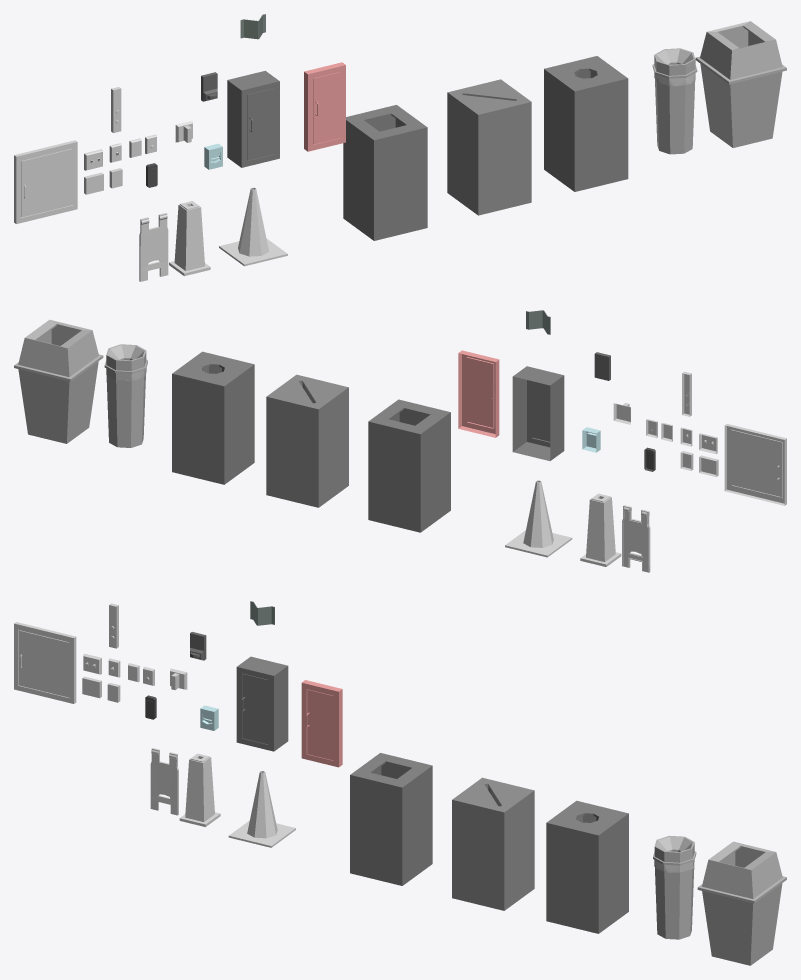
The model's file is Environment-FTP.fbx.
3 views of the same model, one above another, from view 1: azimuth 30°, elevation 25°; view 2: azimuth 150°, elevation 25°; view 3: azimuth 330°, elevation 25° (orthographic). The views are drawn at different scales.
Visible parts, largest first — view 1: trash_3, trash_2, trash_1, Trash_5, Fire_Extinguisher_1_Main, Wall_Gate_Main, Trash_4, Fire_Extinguisher_2_Main, Cone, WetFloor, WetFloor_2_Main_2, Fire_Noticeboard (+1 smaller); view 2: trash_2, trash_1, trash_3, Trash_5, Fire_Extinguisher_1_Main, Wall_Gate_Main, Trash_4, Fire_Extinguisher_2_Main, Cone, WetFloor, WetFloor_2_Main_1, WetFloor_2_Main_2 (+1 smaller); view 3: trash_1, trash_2, trash_3, Trash_5, Fire_Extinguisher_1_Main, Wall_Gate_Main, Trash_4, Fire_Extinguisher_2_Main, Cone, WetFloor, WetFloor_2_Main_2.
Boxes of the visible parts, x1,y1,x2,y2 form: trash_3: (544,56,628,191); trash_2: (447,79,531,215); trash_1: (343,105,427,240); Trash_5: (695,21,786,147); Fire_Extinguisher_1_Main: (227,70,279,167); Wall_Gate_Main: (14,140,77,223); Trash_4: (652,48,697,154); Fire_Extinguisher_2_Main: (304,62,345,151); Cone: (219,187,287,266); WetFloor: (169,201,210,276); WetFloor_2_Main_2: (139,213,168,281); Fire_Noticeboard: (240,14,265,39); trash_2: (266,374,348,507); trash_1: (368,399,450,532); trash_3: (172,351,254,484); Trash_5: (14,319,103,443); Fire_Extinguisher_1_Main: (512,366,564,460); Wall_Gate_Main: (724,424,786,505); Trash_4: (104,344,147,447); Fire_Extinguisher_2_Main: (458,350,499,437); Cone: (505,480,572,557); WetFloor: (580,493,621,566); WetFloor_2_Main_1: (623,507,648,571); WetFloor_2_Main_2: (622,505,650,572); trash_1: (350,753,432,885); trash_2: (452,777,534,910); trash_3: (546,800,628,933); Trash_5: (697,841,786,965); Fire_Extinguisher_1_Main: (236,656,288,751); Wall_Gate_Main: (14,622,76,703); Trash_4: (653,835,696,939); Fire_Extinguisher_2_Main: (301,680,342,767); Cone: (228,771,295,847); WetFloor: (179,753,220,826); WetFloor_2_Main_2: (150,748,178,815).
Bounding box in the file's own units: 714 × 213 × 55.07.
